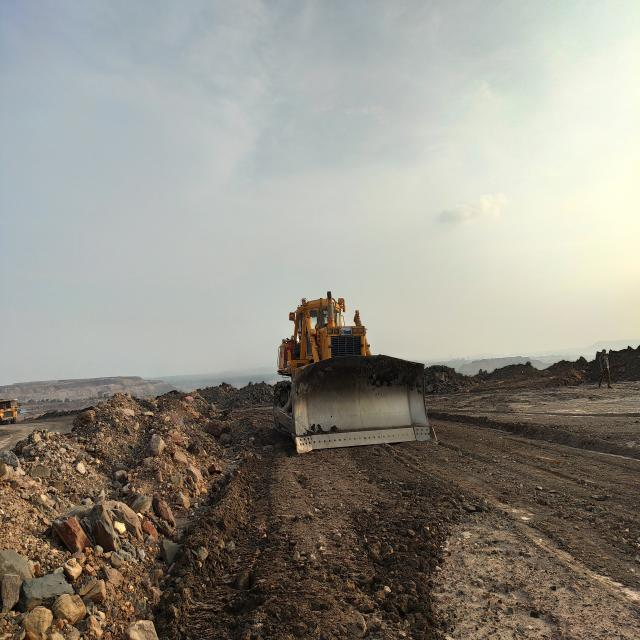buldozerpayloadergrader: (274, 295, 435, 453)
